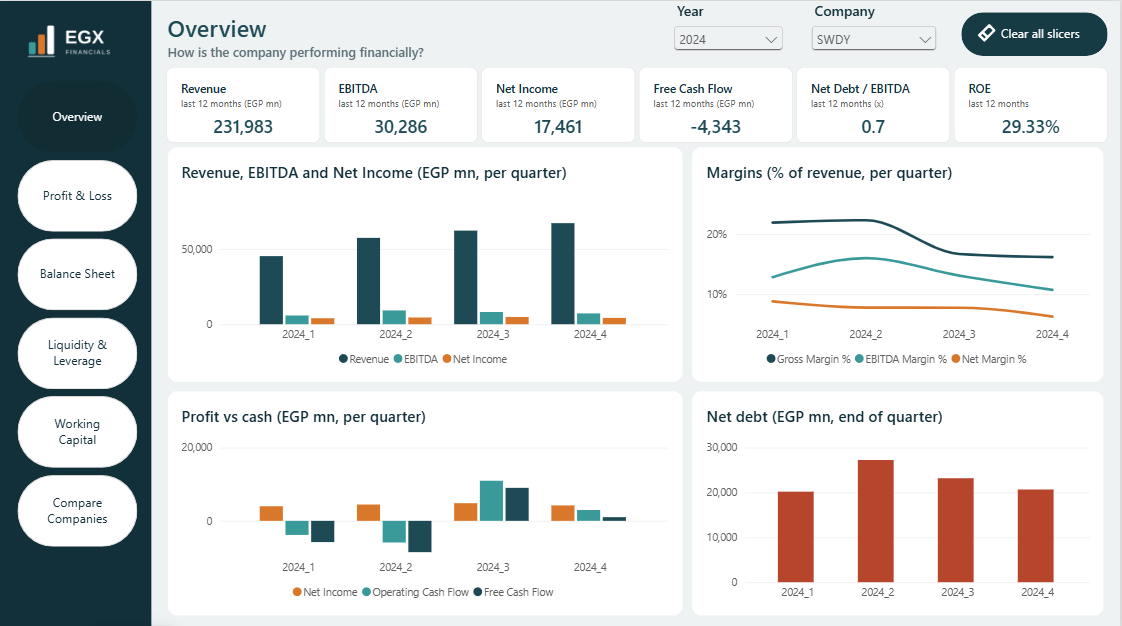

Layout of this report page (visuals, bound fields, positions):
{"tool":"powerbi","page":{"name":"Overview","canvas":[1280,720],"ordinal":0},"visuals":[{"type":"slicer","fields":{"Values":["DimCalendar.Year"]},"box":[765,0,133.8,75],"z":0},{"type":"slicer","fields":{"Values":["DimCompany.Company"]},"box":[922.5,0,152.5,75],"z":1000},{"type":"actionButton","box":[1098.8,12.5,167.5,50],"z":2000},{"type":"pageNavigator","box":[20,91.2,137.5,537.5],"z":3000},{"type":"kpi","title":"Revenue","fields":{"Indicator":["_Measures.Revenue TTM"],"TrendLine":["DimCalendar.Quarter_Year"]},"box":[190,75.6,176.2,86.2],"z":4000},{"type":"kpi","title":"EBITDA","fields":{"Indicator":["_Measures.EBITDA TTM"],"TrendLine":["DimCalendar.Quarter_Year"]},"box":[370,75.6,176.2,86.2],"z":5000},{"type":"kpi","title":"Net Income","fields":{"Indicator":["_Measures.Net Income TTM"],"TrendLine":["DimCalendar.Quarter_Year"]},"box":[550,75.6,176.2,86.2],"z":6000},{"type":"kpi","title":"Free Cash Flow","fields":{"Indicator":["_Measures.Free Cash Flow TTM"],"TrendLine":["DimCalendar.Quarter_Year"]},"box":[730,75.6,176.2,86.2],"z":7000},{"type":"kpi","title":"ROE","fields":{"Indicator":["_Measures.ROE"],"TrendLine":["DimCalendar.Quarter_Year"]},"box":[1090,75.6,176.2,86.2],"z":8000},{"type":"kpi","title":"Net Debt / EBITDA","fields":{"Indicator":["_Measures.Net Debt / EBITDA"],"TrendLine":["DimCalendar.Quarter_Year"]},"box":[910,75.6,176.2,86.2],"z":9000},{"type":"lineChart","title":"Margins (% of revenue, per quarter)","fields":{"Category":["DimCalendar.Quarter_Year"],"Y":["_Measures.Gross Margin %","_Measures.EBITDA Margin %","_Measures.Net Margin %"]},"box":[791,170,470,268],"z":10000},{"type":"clusteredColumnChart","title":"Revenue, EBITDA and Net Income (EGP mn, per quarter)","fields":{"Category":["DimCalendar.Quarter_Year"],"Y":["_Measures.Revenue","_Measures.EBITDA","_Measures.Net Income"]},"box":[192,170,588,268],"z":11000},{"type":"clusteredColumnChart","title":"Profit vs cash (EGP mn, per quarter)","fields":{"Category":["DimCalendar.Quarter_Year"],"Y":["_Measures.Net Income","_Measures.Operating Cash Flow","_Measures.Free Cash Flow"]},"box":[192,449,588,256],"z":12000},{"type":"clusteredColumnChart","title":"Net debt (EGP mn, end of quarter)","fields":{"Category":["DimCalendar.Quarter_Year"],"Y":["_Measures.Net Debt"]},"box":[791.2,448.8,470,256.2],"z":13000},{"type":"image","box":[24,14,125,60],"z":14000},{"type":"textbox","box":[192,12.5,560,56],"z":15000}]}

Visuals, with their boxes in screenshot pixels (x1, y1, x2, y2), scaled from the page's 1280x720 canvas onto the 1122x626 screenshot:
slicer - DimCalendar.Year: select_region(671, 0, 788, 65)
slicer - DimCompany.Company: select_region(809, 0, 942, 65)
actionButton: select_region(963, 11, 1110, 54)
pageNavigator: select_region(18, 79, 138, 547)
"Revenue" kpi: select_region(167, 66, 321, 141)
"EBITDA" kpi: select_region(324, 66, 479, 141)
"Net Income" kpi: select_region(482, 66, 637, 141)
"Free Cash Flow" kpi: select_region(640, 66, 794, 141)
"ROE" kpi: select_region(955, 66, 1110, 141)
"Net Debt / EBITDA" kpi: select_region(798, 66, 952, 141)
"Margins (% of revenue, per quarter)" lineChart: select_region(693, 148, 1105, 381)
"Revenue, EBITDA and Net Income (EGP mn, per quarter)" clusteredColumnChart: select_region(168, 148, 684, 381)
"Profit vs cash (EGP mn, per quarter)" clusteredColumnChart: select_region(168, 390, 684, 613)
"Net debt (EGP mn, end of quarter)" clusteredColumnChart: select_region(694, 390, 1106, 613)
image: select_region(21, 12, 131, 64)
textbox: select_region(168, 11, 659, 60)
